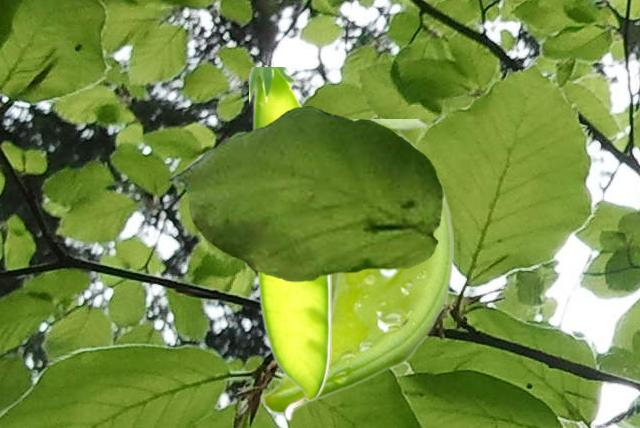pea: (258, 119, 452, 412), (249, 67, 330, 420)
